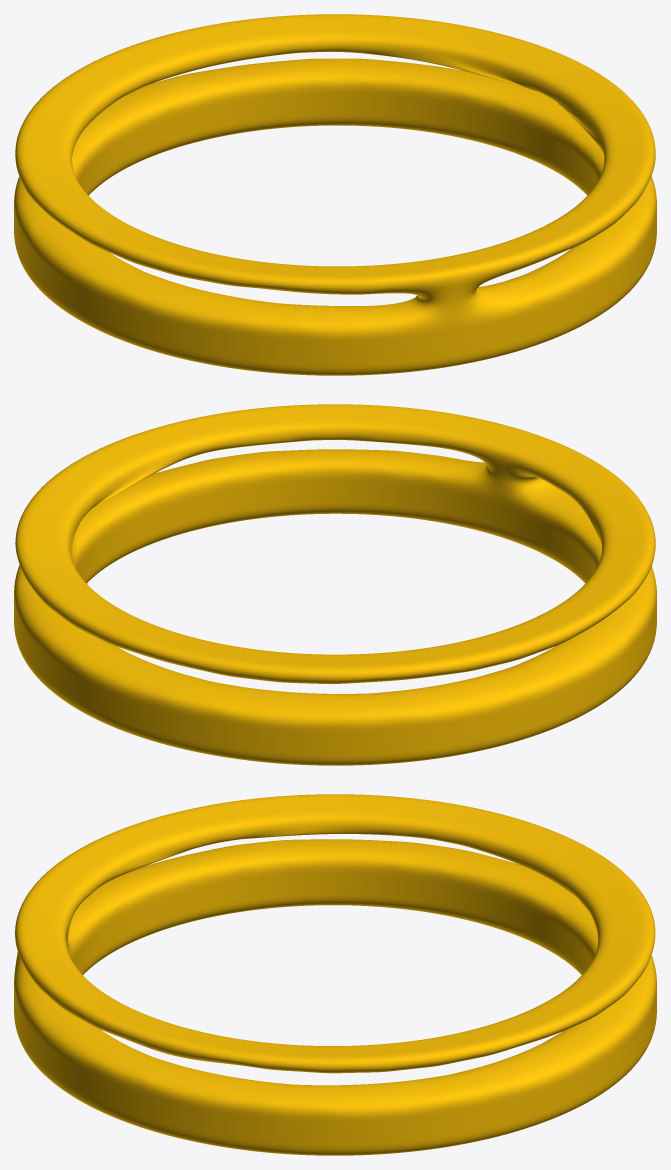
Rendered from ring_second.fbx.
3 views of the same model, one above another, from view 1: azimuth 30°, elevation 25°; view 2: azimuth 150°, elevation 25°; view 3: azimuth 270°, elevation 25° (orthographic).
Parts seen in each view (by area): view 1: Circle_001; view 2: Circle_001; view 3: Circle_001.
Part boxes in pixels (<box>): Circle_001: <box>14,14,656,375</box>; Circle_001: <box>14,404,656,765</box>; Circle_001: <box>14,794,656,1155</box>.
Size of the model in its own units: 2.97 by 0.5002 by 2.97.
